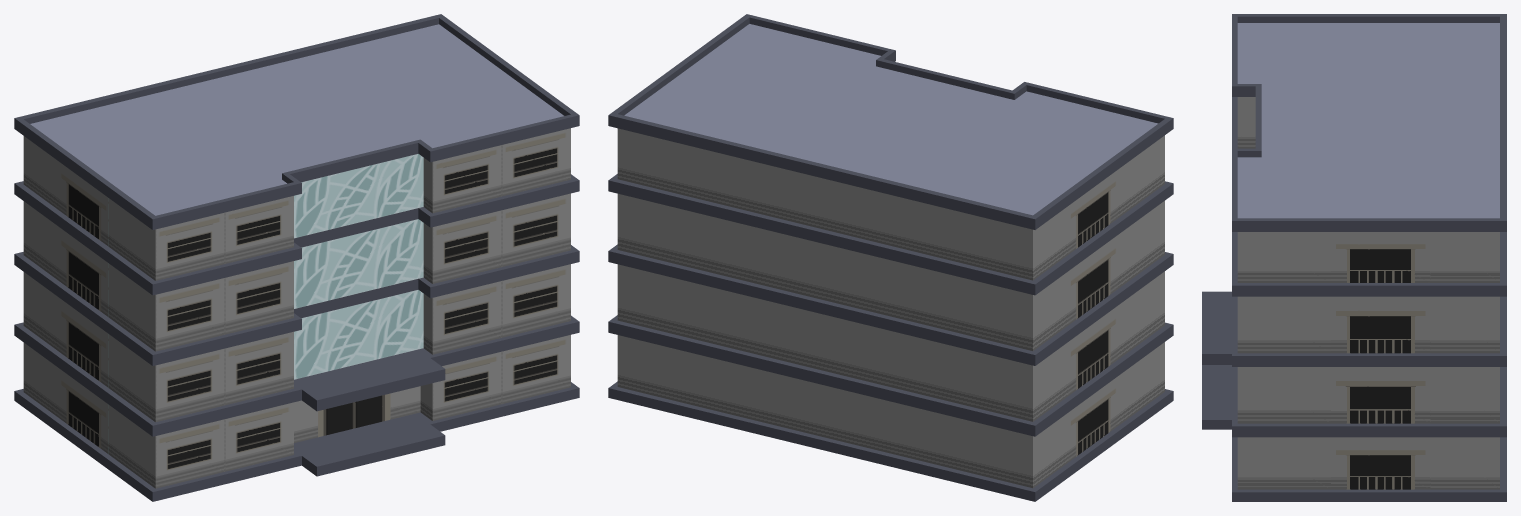
Rendered from qcu_bldg3.glb.
3 renders of one model, left to right at view 1: azimuth 30°, elevation 25°; view 2: azimuth 150°, elevation 25°; view 3: azimuth 270°, elevation 25°, orthographic.
Parts seen in each view (by area): view 1: Cube; view 2: Cube; view 3: Cube.
Part boxes in pixels (bbox=[...]): Cube: bbox=[14, 14, 579, 501]; Cube: bbox=[608, 14, 1173, 501]; Cube: bbox=[1202, 14, 1506, 501].
Bounding box in the file's own units: 4.11 × 2.6 × 2.56.
Materials: 2 (2 with a texture image).
